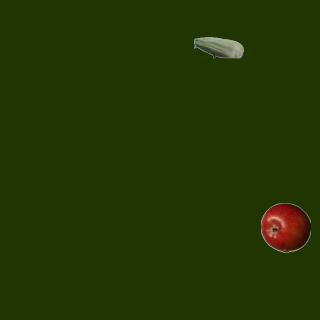Apple Braeburn: (260, 202, 310, 252)
Corn Husk: (193, 22, 243, 72)
